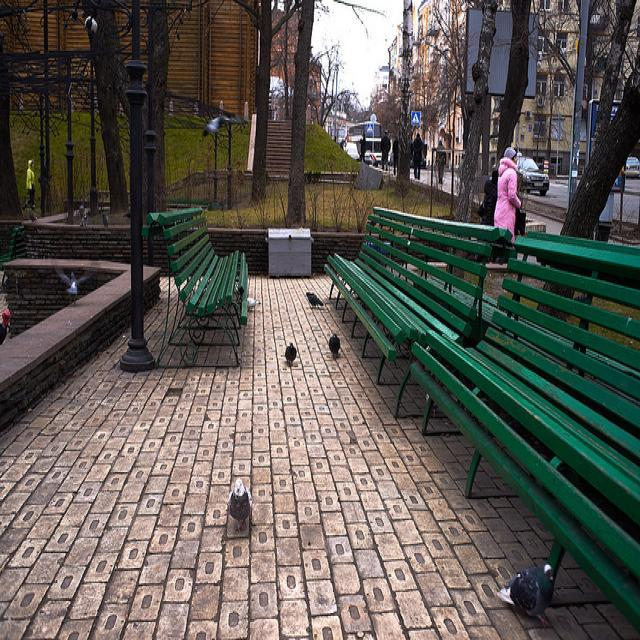Vehicle: (346, 121, 382, 163), (516, 158, 552, 197), (624, 157, 640, 178), (363, 154, 378, 167)
